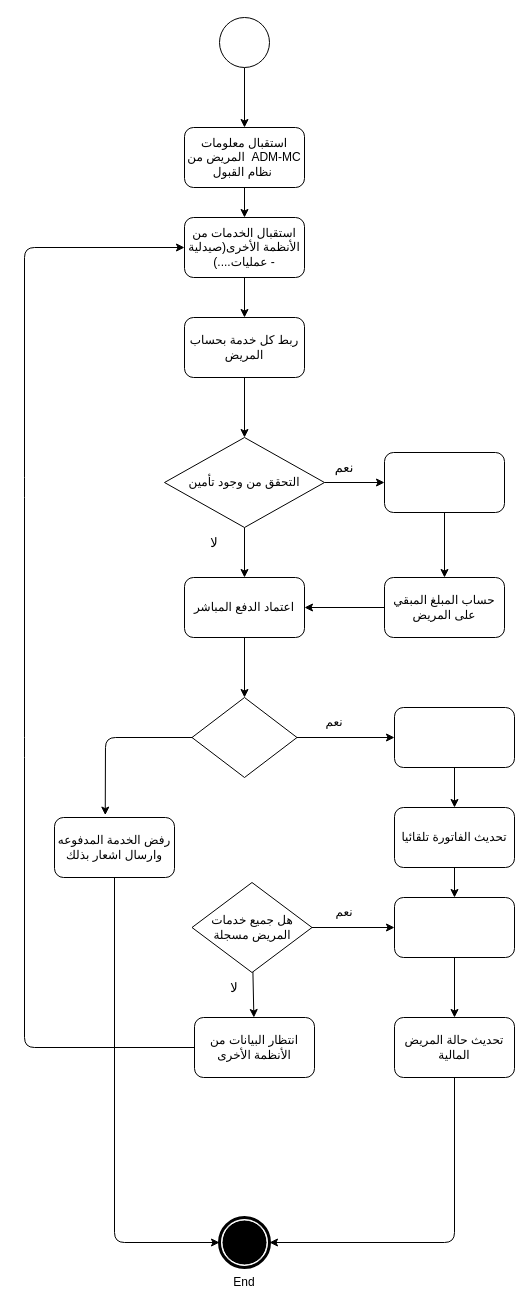
This 532x1315 diagram has some shape labels left out. Here are the shapes that lost their labels. From the top down, the centre of each, then its label:
point 244,42: Start
point 444,482: احساب نسبة تغطية التأمين
point 244,737: هل الدفع كافي
point 454,737: اعتماد الخدمة
point 454,927: اصدار الفاتورة النهائية
